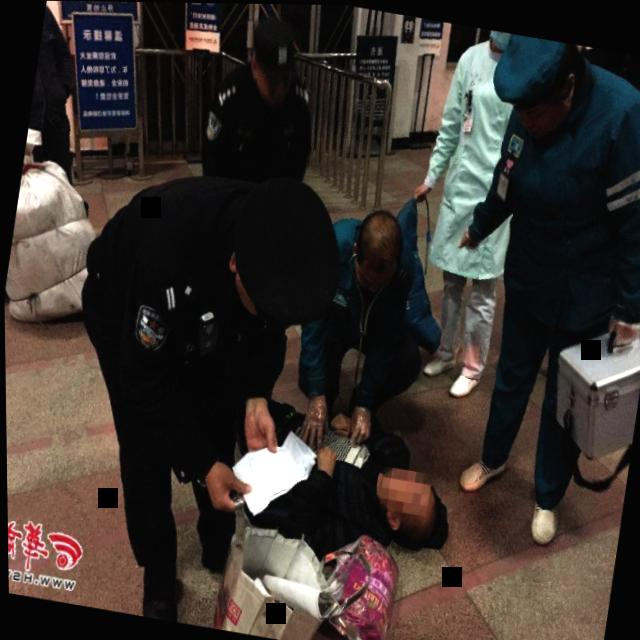Fall-Detected: (207, 368, 471, 569)
